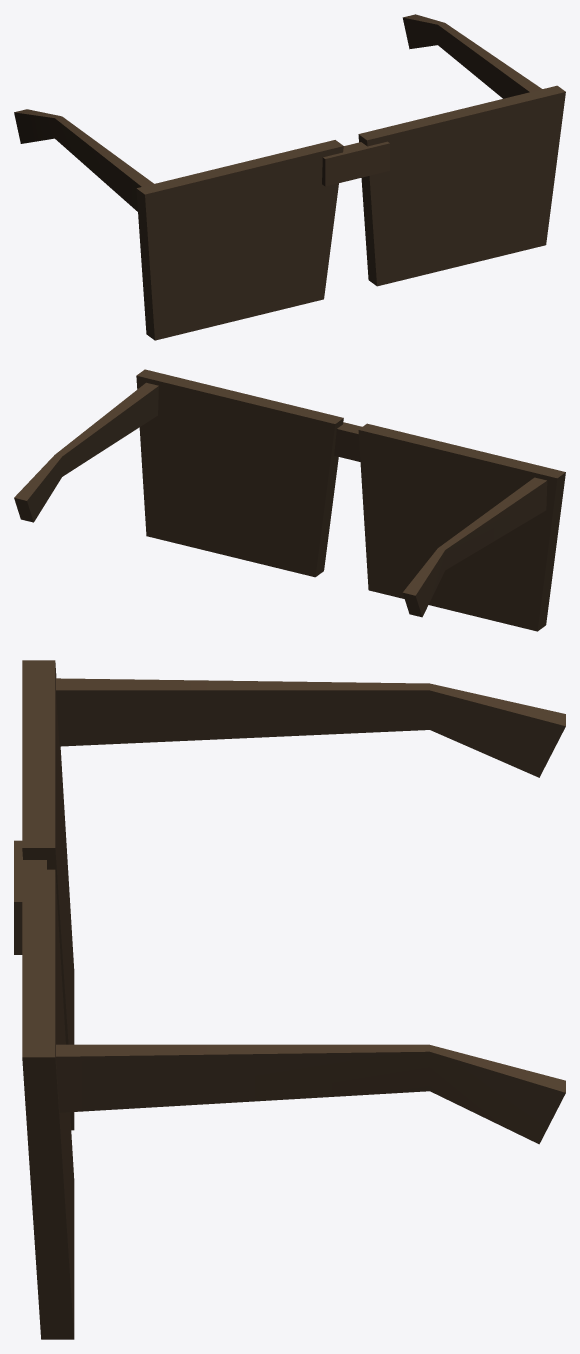
The model's file is Item_Sunglasses01.FBX.
The picture shows the model from 3 angles, top to bottom: view 1: azimuth 30°, elevation 25°; view 2: azimuth 150°, elevation 25°; view 3: azimuth 270°, elevation 25°; orthographic projection. The views are drawn at different scales.
Parts seen in each view (by area): view 1: Item_Glass01; view 2: Item_Glass01; view 3: Item_Glass01.
Part boxes in pixels (x1,y1,x2,y2): Item_Glass01: [14, 14, 565, 340]; Item_Glass01: [14, 369, 565, 631]; Item_Glass01: [14, 660, 565, 1339].
Bounding box in the file's own units: 43.02 × 14.97 × 25.27.
